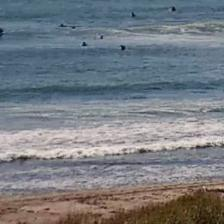surfer: (0, 28, 6, 38), (120, 44, 127, 52), (58, 23, 68, 28), (80, 41, 88, 47), (170, 6, 177, 12), (130, 12, 136, 18), (99, 35, 104, 40)
